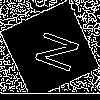N: (25, 25, 81, 75)
